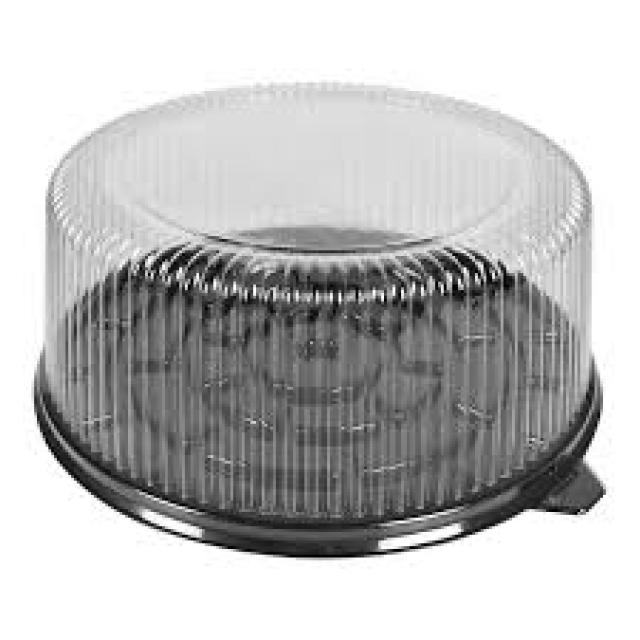disposable: (30, 89, 638, 562)
